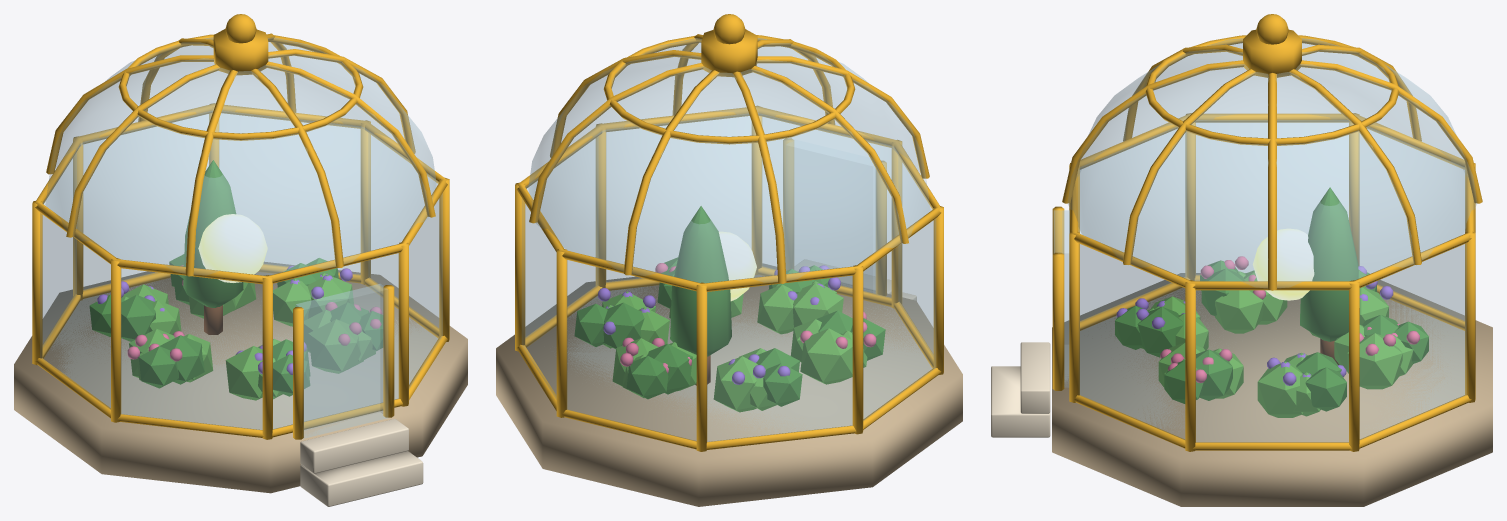
The model's file is sera_5.glb.
The picture shows the model from 3 angles, left to right: view 1: azimuth 30°, elevation 25°; view 2: azimuth 150°, elevation 25°; view 3: azimuth 270°, elevation 25°; orthographic projection. The views are drawn at different scales.
Visible parts, largest first — view 1: Sera.001; view 2: Sera.001; view 3: Sera.001.
Part boxes in pixels (bbox=[...]): Sera.001: bbox=[14, 14, 467, 506]; Sera.001: bbox=[496, 14, 962, 506]; Sera.001: bbox=[991, 14, 1492, 506].
Bounding box in the file's own units: 2.68 × 2.67 × 3.05.
